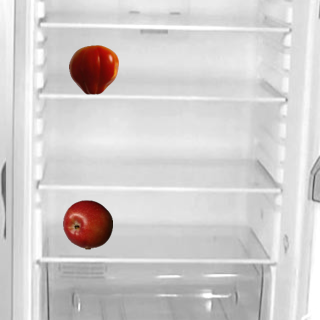Apple Braeburn: (62, 199, 112, 249)
Tomato 1: (68, 44, 118, 94)
